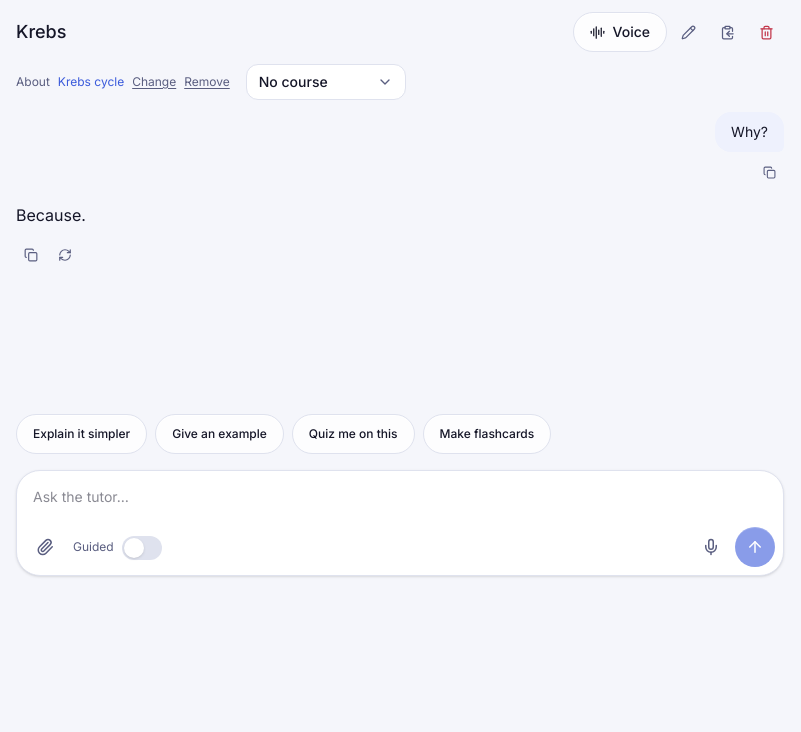
Test case: on a reply › says when it cannot copy
Click the button named "Copy reply" at [31, 255], box top-left (16, 237), bottom-right (46, 273)
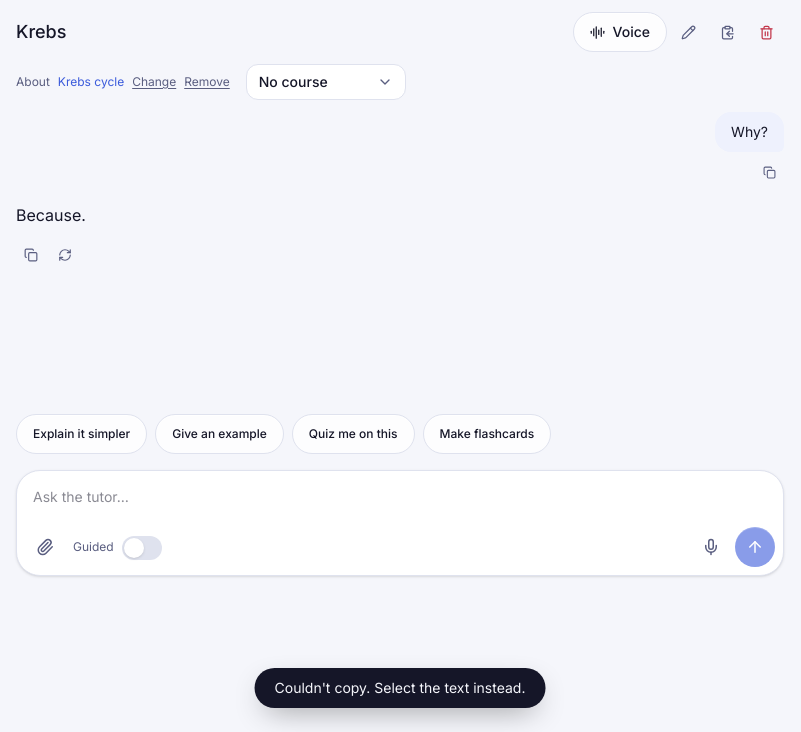
Result: the text "Couldn't copy. Select the text instead." is shown at top-left (254, 668), bottom-right (545, 708)
